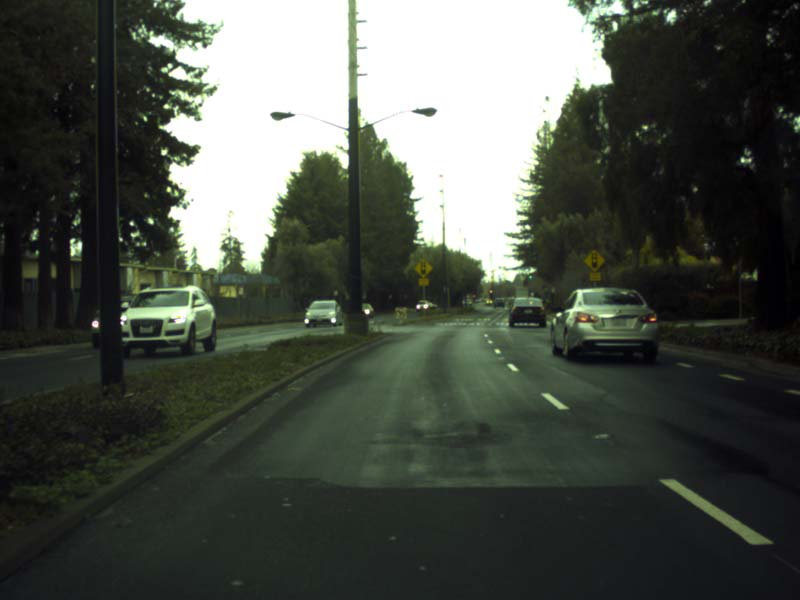Green: (542, 285, 546, 292), (529, 273, 532, 281)
Red: (472, 292, 478, 303), (488, 288, 493, 300)
